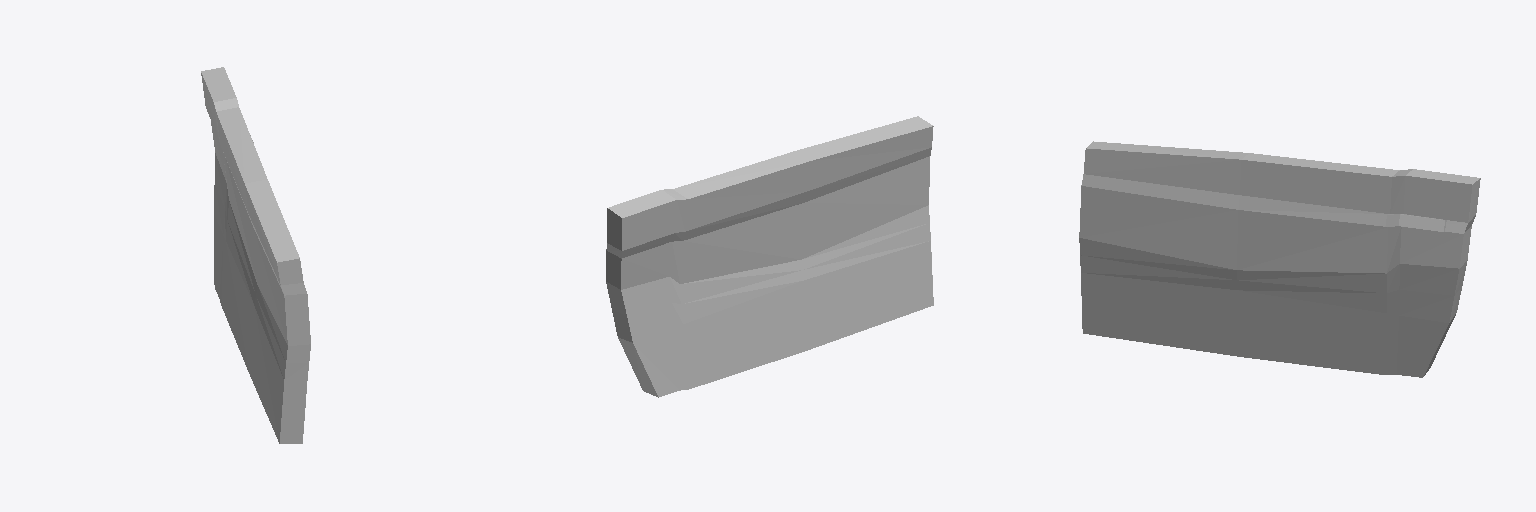
File: Puerta Izq.obj
3 renders of one model, left to right at view 1: azimuth 30°, elevation 25°; view 2: azimuth 150°, elevation 25°; view 3: azimuth 270°, elevation 25°, orthographic.
Parts seen in each view (by area): view 1: Puerta Izquierda; view 2: Puerta Izquierda; view 3: Puerta Izquierda.
Part boxes in pixels (bbox=[...]): Puerta Izquierda: bbox=[201, 67, 310, 443]; Puerta Izquierda: bbox=[606, 116, 933, 397]; Puerta Izquierda: bbox=[1079, 141, 1480, 377].
Bounding box in the file's own units: 0.3528 × 0.4798 × 0.8485.